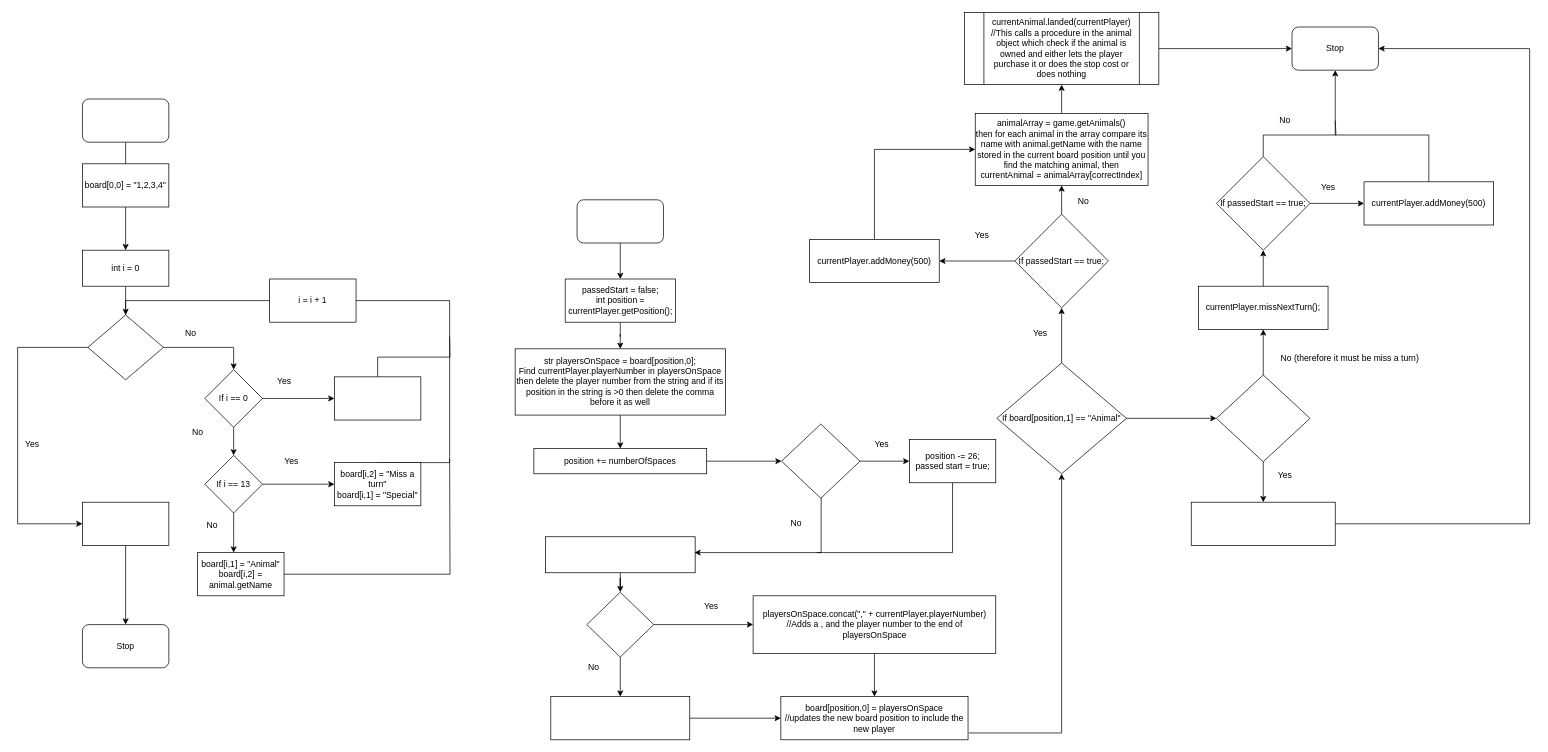
The diagram is 1548 pixels wide and 752 high, and some of its shapes have lost their labels. Each missing label, with the box of its shape:
board[i,2] = "Start" board[i,1] = "Special": (334, 376, 421, 420)
currentPlayer.addMoney(1000);: (1191, 501, 1335, 545)
If board[position,2] == "Start": (1216, 374, 1310, 462)
If i == 26: (87, 314, 163, 380)
If length > 0: (586, 591, 654, 657)
If position > 25: (781, 423, 860, 498)
missTurn = false passedStart = false: (82, 501, 169, 545)
playersOnSpace = board[position,0]; length = playersOnSpace.length(): (545, 536, 695, 573)
playersOnSpace = str(currentPlayer.playerNumber): (550, 696, 690, 740)
Start Constructor: (82, 98, 169, 142)
Start movePlayer (currentPlayer, numberOfSpaces): (576, 199, 663, 243)
